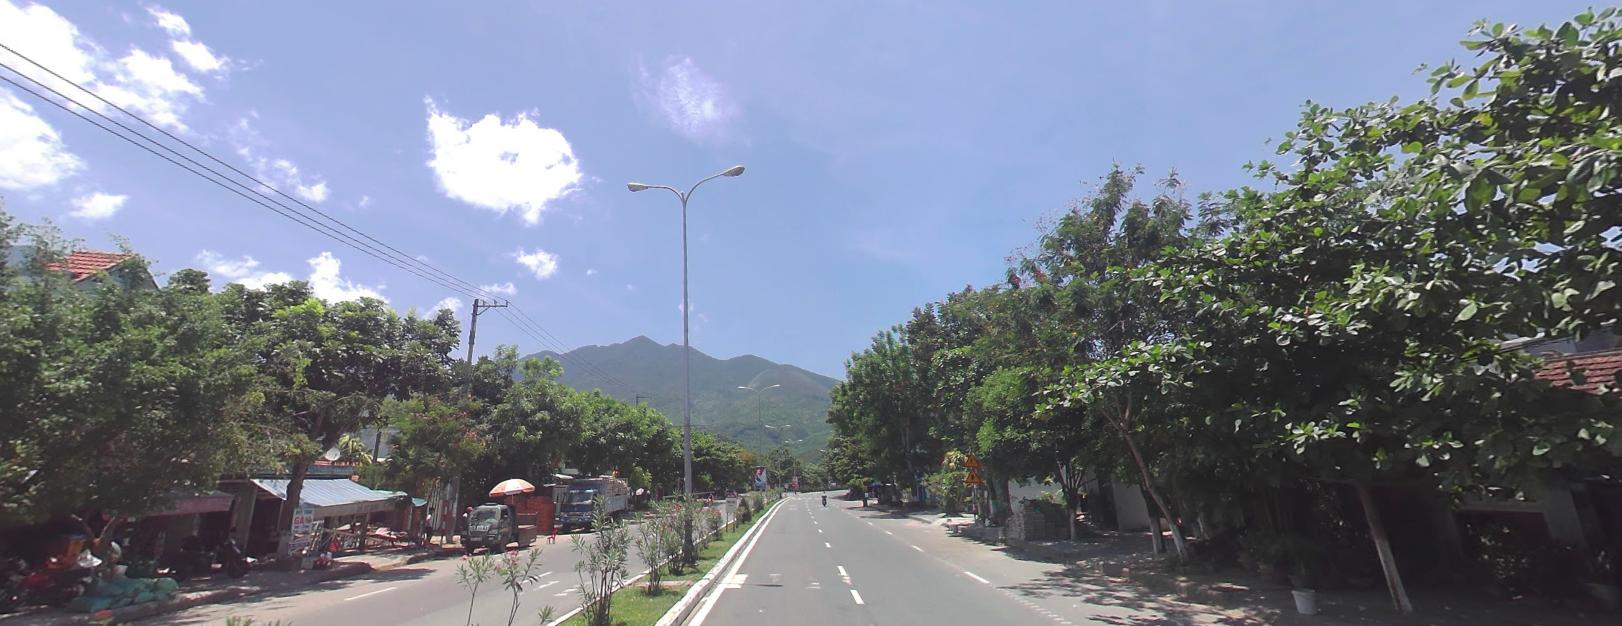Cam dung va do: (791, 482, 795, 486)
Nguy hiem: (963, 451, 980, 466), (964, 467, 981, 481)
